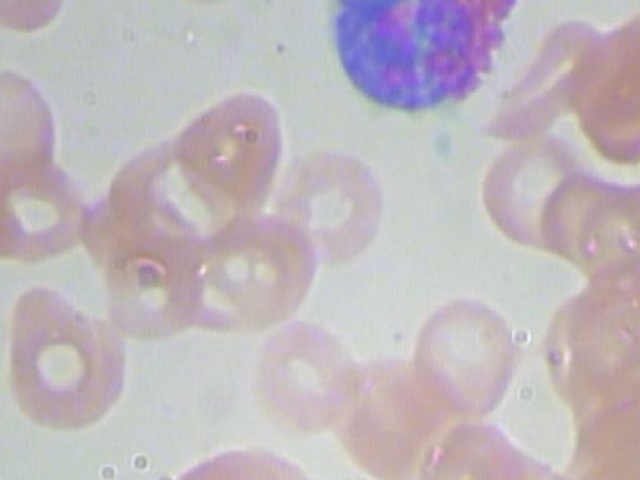RBC: (322, 336, 475, 480), (169, 70, 304, 228), (469, 15, 616, 152), (0, 277, 126, 435), (197, 200, 327, 331), (399, 288, 529, 418), (243, 311, 373, 441), (472, 132, 603, 260), (269, 145, 386, 267), (0, 44, 80, 197), (565, 0, 640, 163), (102, 228, 206, 341), (0, 155, 95, 267), (539, 167, 621, 261), (151, 439, 299, 480), (139, 0, 266, 8)
WBC: (308, 0, 527, 125)
